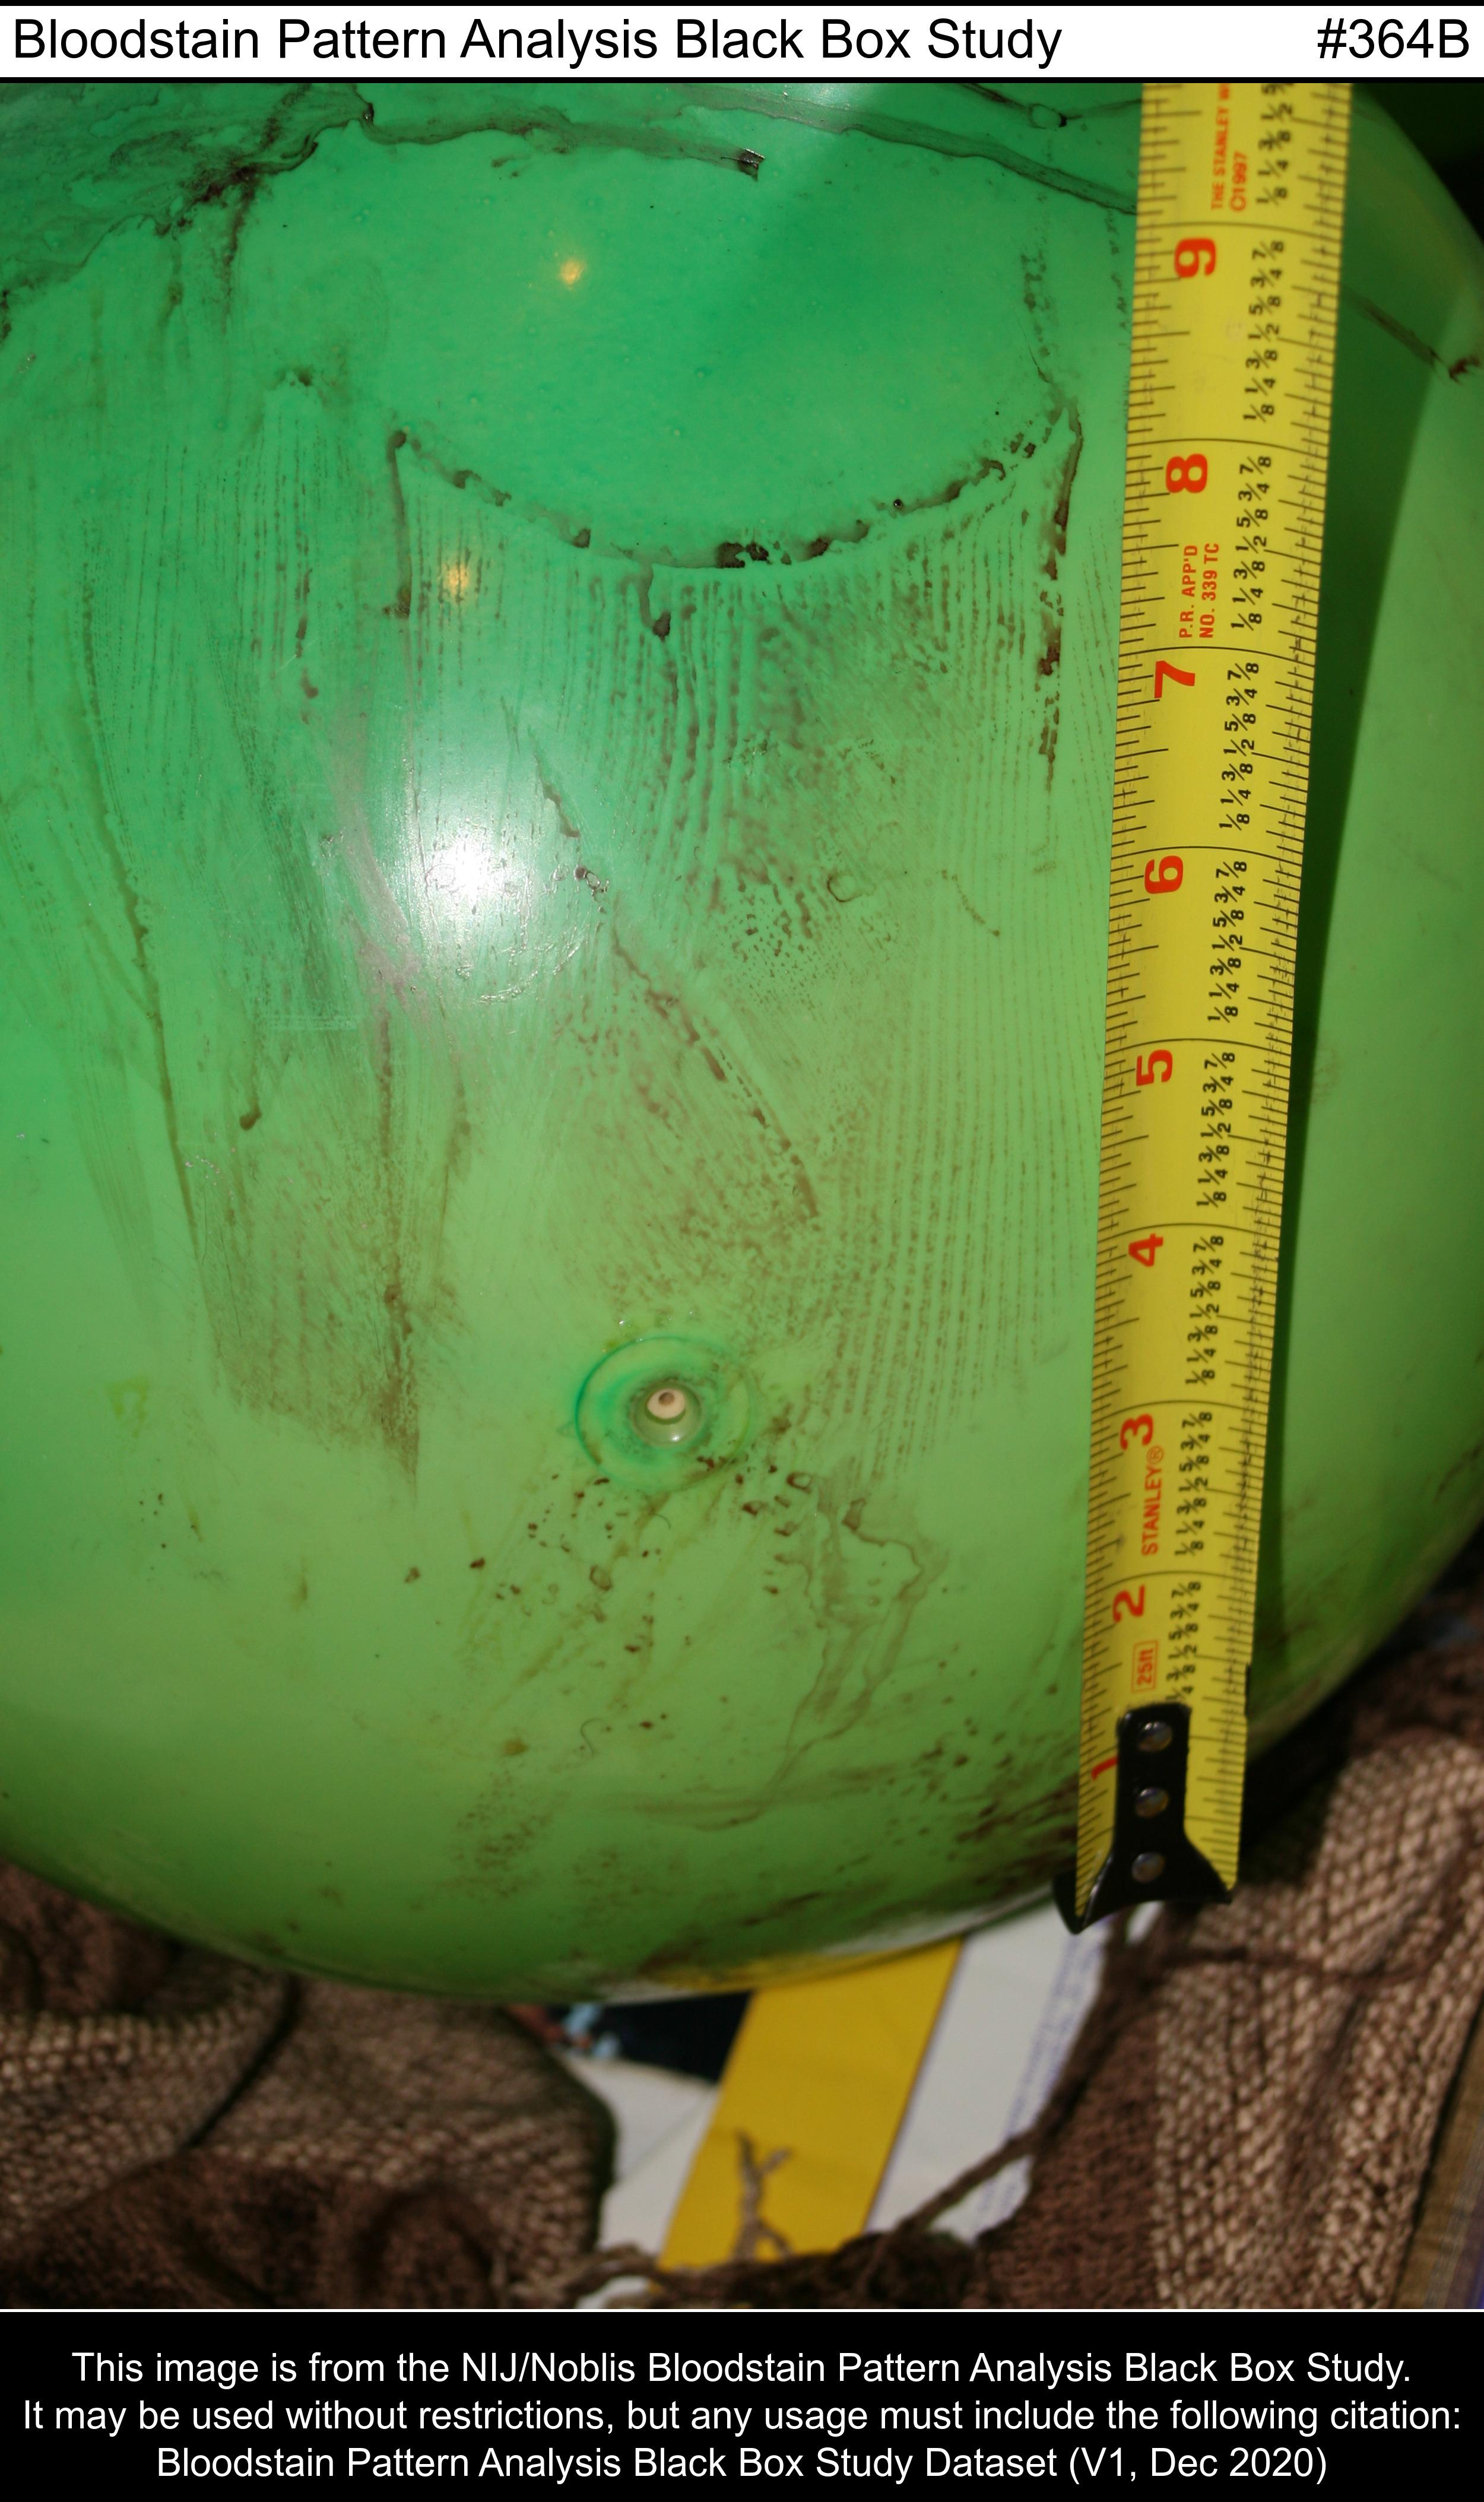Transfer: (0, 83, 1060, 1974)
